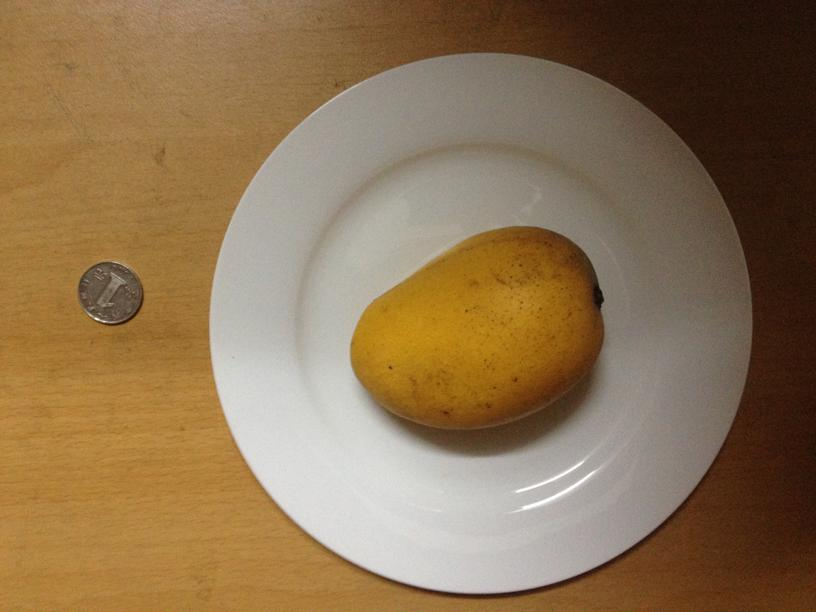coin: (76, 260, 142, 323)
mango: (343, 229, 606, 428)
